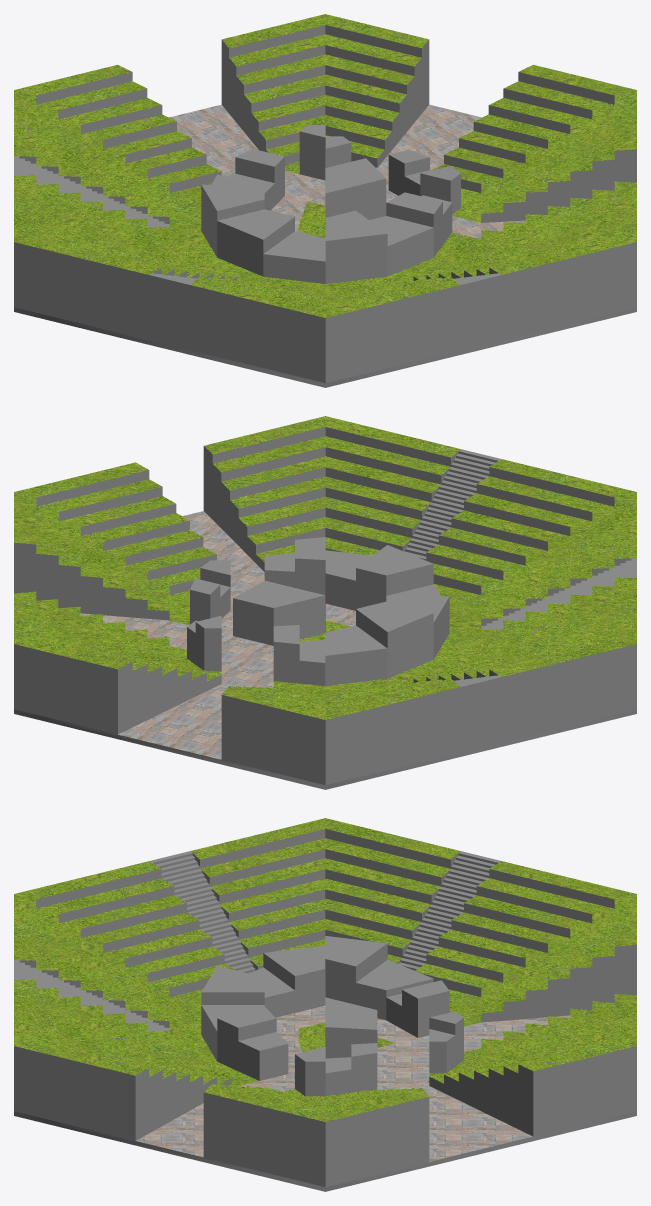
The picture shows the model from 3 angles, top to bottom: view 1: azimuth 30°, elevation 25°; view 2: azimuth 150°, elevation 25°; view 3: azimuth 270°, elevation 25°; orthographic projection.
Parts seen in each view (by area): view 1: Cylinder037; view 2: Cylinder037; view 3: Cylinder037.
Part boxes in pixels (x1,y1,x2,y2): Cylinder037: (14,14,636,387); Cylinder037: (14,416,636,789); Cylinder037: (14,818,636,1191).
Size of the model in its own units: 140 by 15 by 121.
5 materials, 2 textured.
